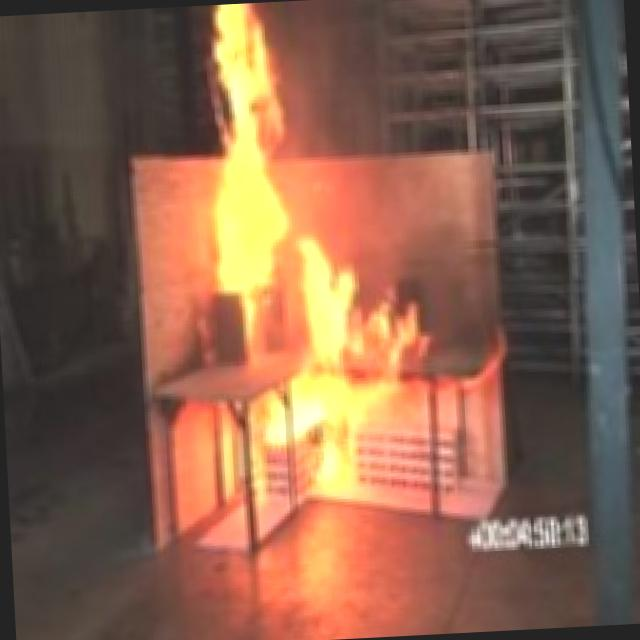fire: (168, 0, 422, 515)
